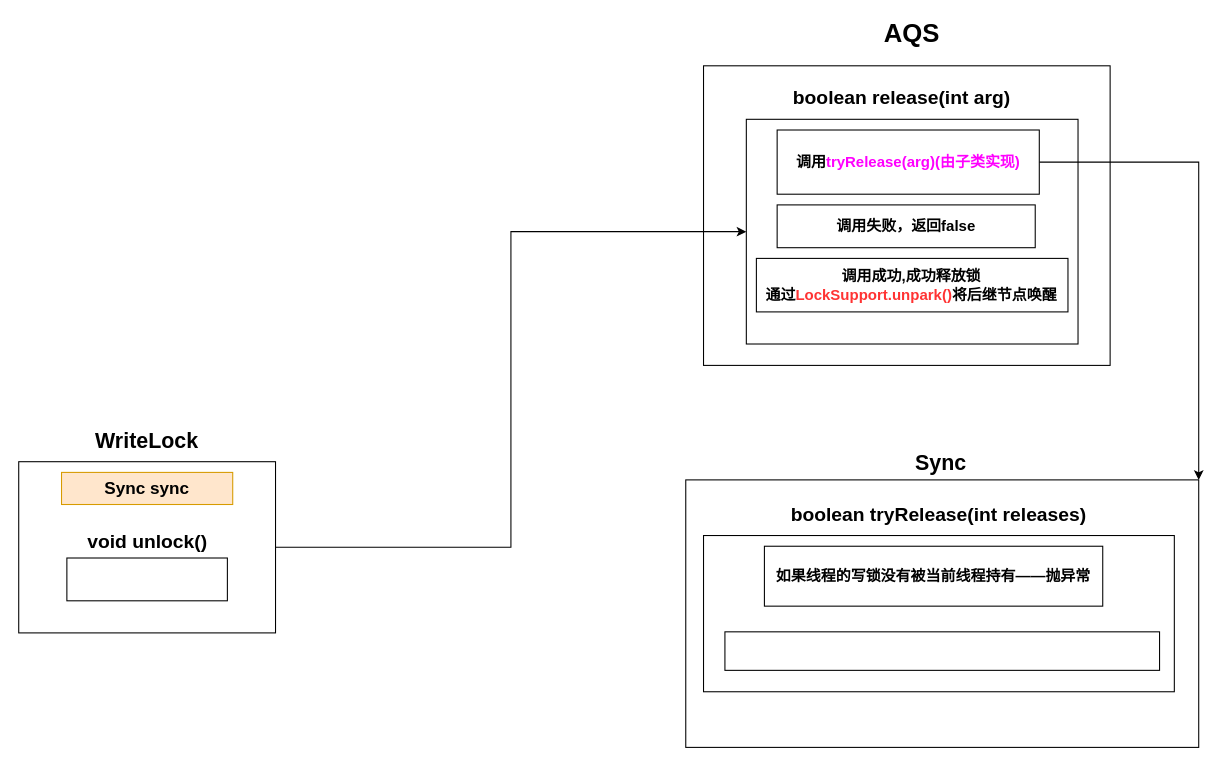
This 1226x766 diagram has some shape labels left out. Each missing label, with the box of its shape:
sync.release(1): (66, 557, 227, 601)
释放锁，更新state(如果将全部写锁都释放掉，那么还要更新exclusiveThreadOwner为null): (724, 631, 1160, 670)
